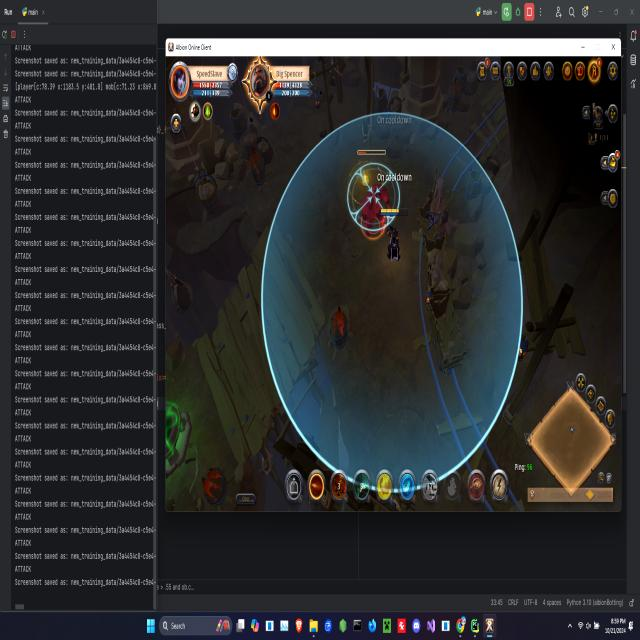ore: (355, 144, 391, 246)
red: (378, 201, 412, 267)
